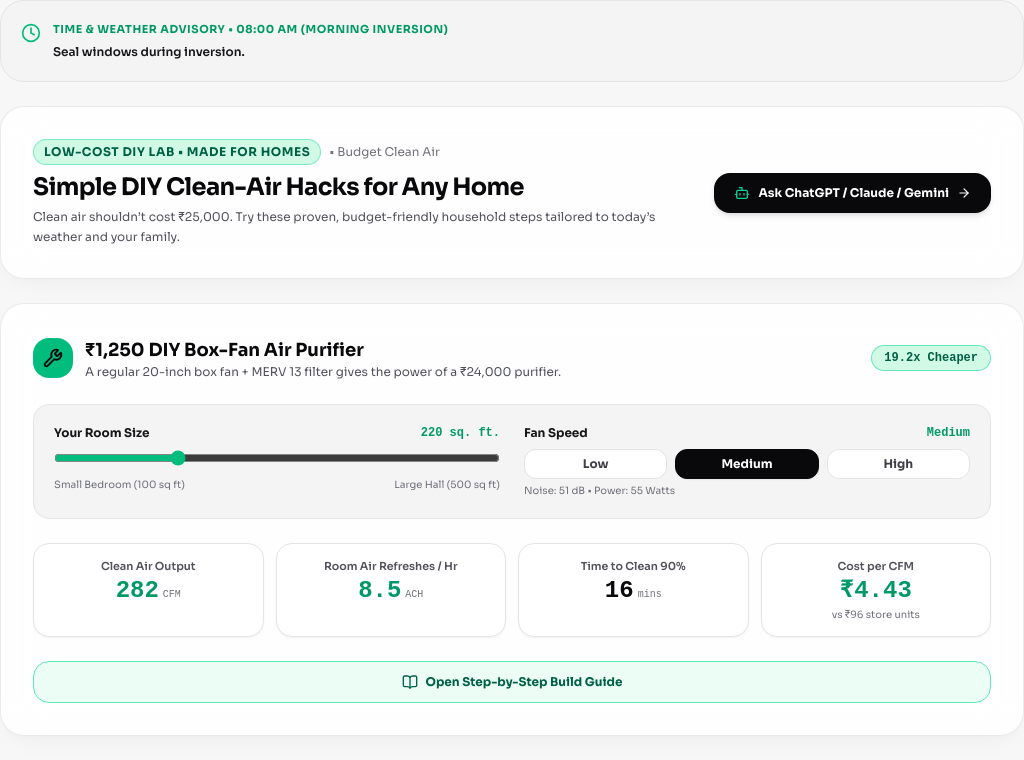
Test: AeroShield AI: UI Components & WCAG 2.1 AA Accessibility Tests › recalculates CADR airflow in DesiJugaadLab when changing fan speed to high
The image size is (1024, 760).
Expected: the text "282" is shown, x1=116 y1=576 x2=159 y2=604
Click the button "high".
click(898, 464)  # box x1=827 y1=449 x2=970 y2=479
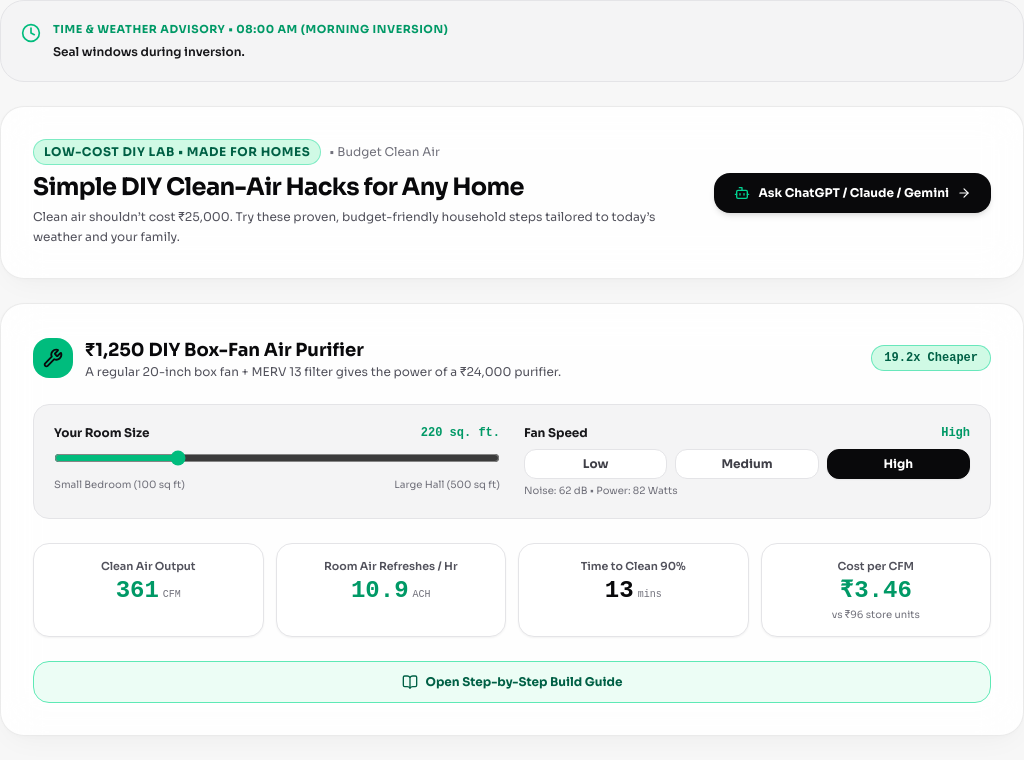
Expected: the text "361" is shown, x1=116 y1=576 x2=159 y2=604
